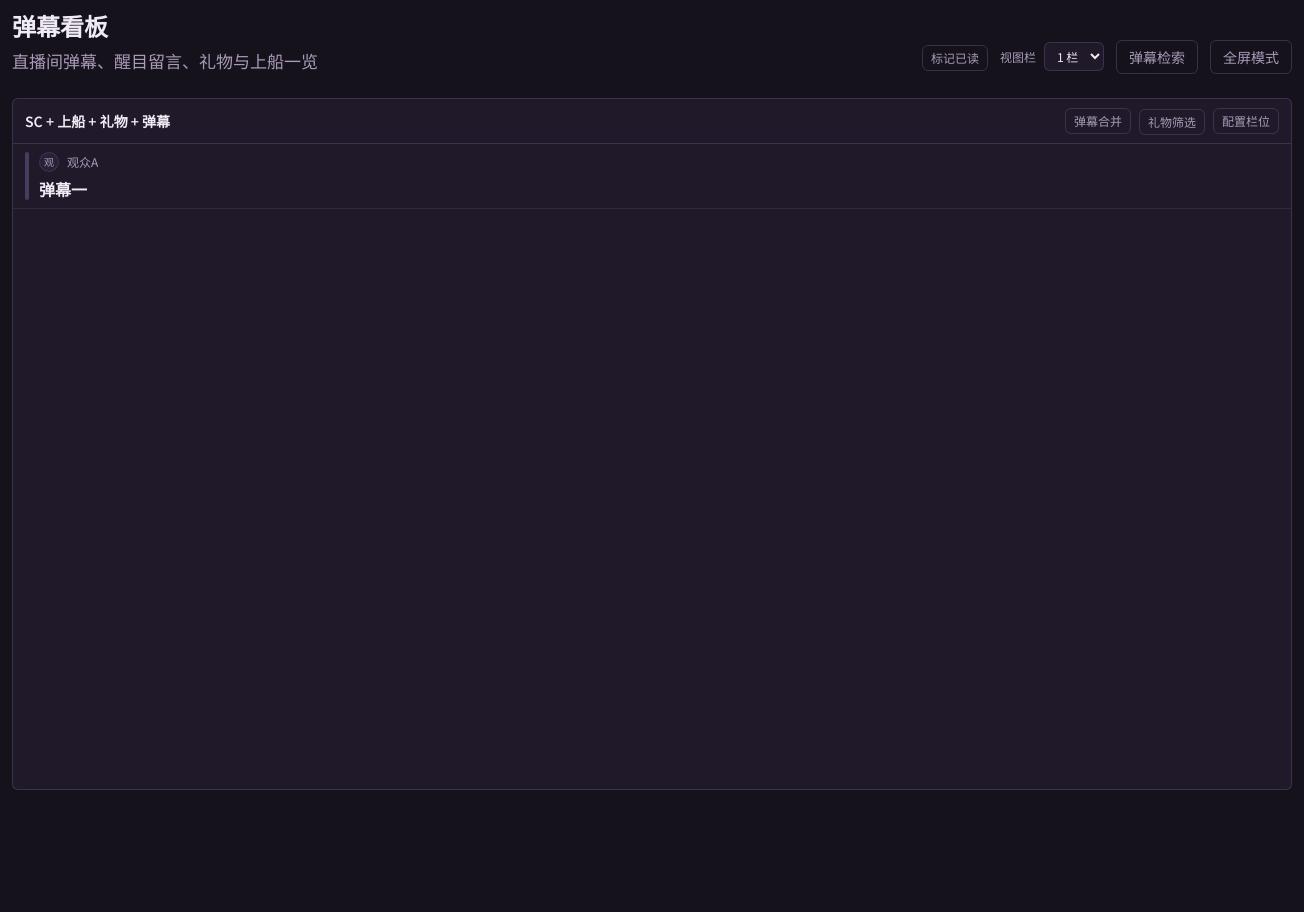
Test: DanmakuPage 视图栏选择器 › medium 选择 2 栏后按预设分组（上船+SC | 礼物+弹幕）并持久化
The image size is (1304, 912).
Select "2 栏" in the dropdown labelled "视图栏": (1074, 56) x1=1044 y1=42 x2=1104 y2=71
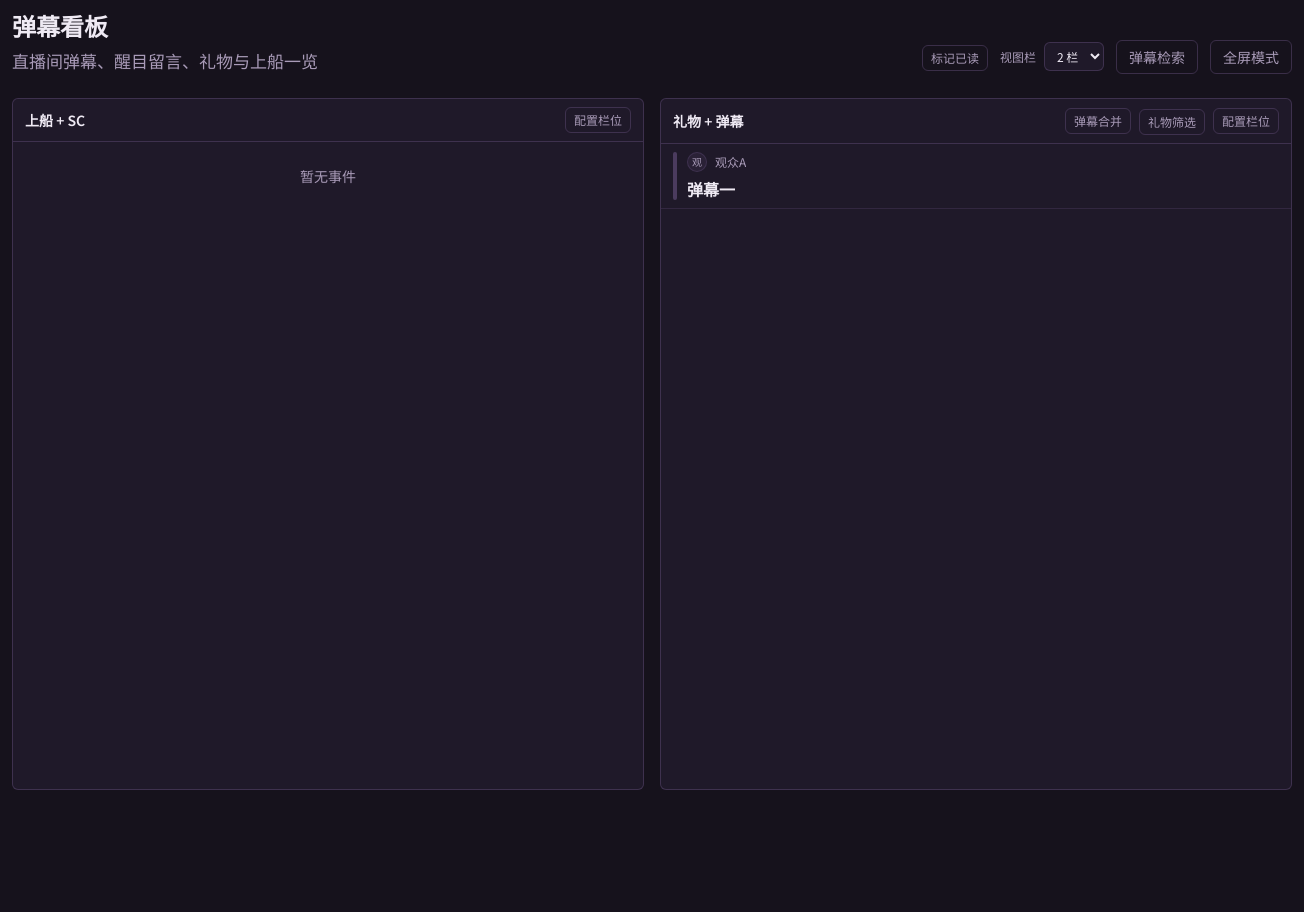
Expected: the heading "礼物 + 弹幕" is shown, x1=673 y1=110 x2=744 y2=130
Result: the heading "上船 + SC" is shown at x1=25 y1=110 x2=85 y2=130
